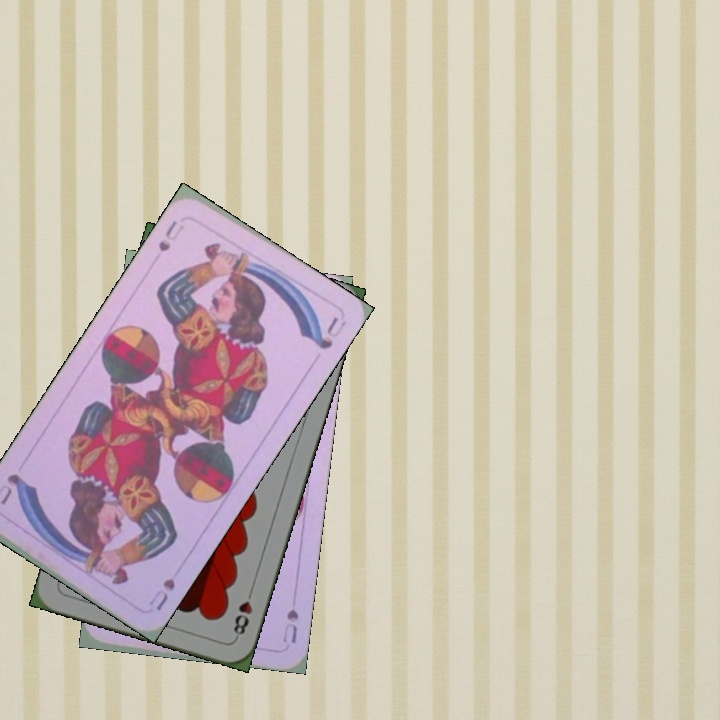H8: (229, 584, 256, 641)
SU: (145, 574, 178, 614), (154, 216, 187, 254), (279, 605, 301, 646)
